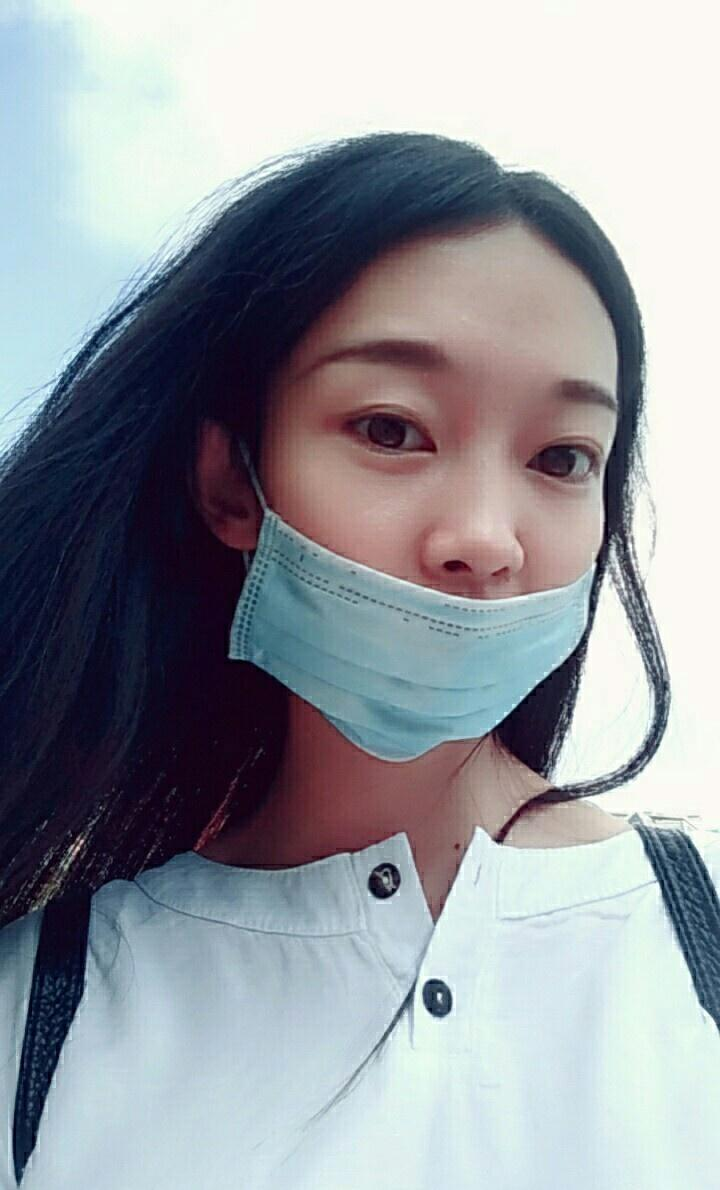WRONG: (229, 339, 620, 757)
